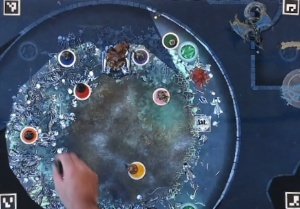blue: (54, 47, 78, 68)
green: (157, 30, 179, 51)
orange: (20, 125, 40, 144)
pink: (152, 86, 170, 104)
red: (70, 81, 91, 101)
violet: (131, 47, 150, 66)
yellow: (125, 160, 149, 181)
